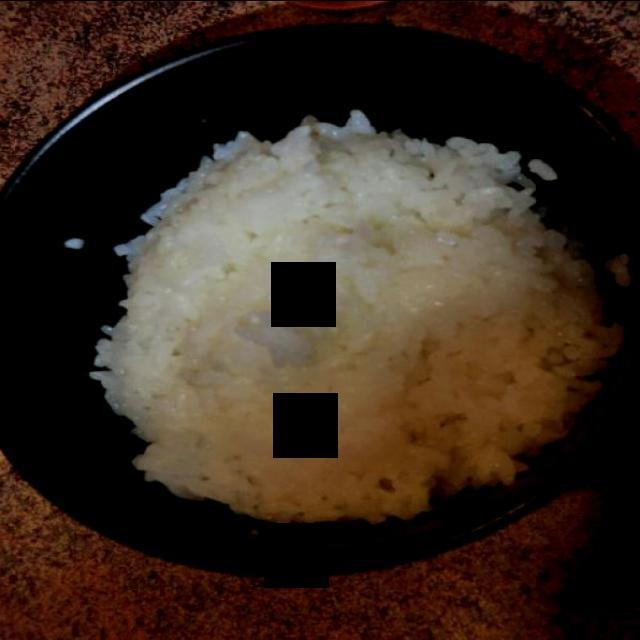rice: (89, 112, 625, 526)
